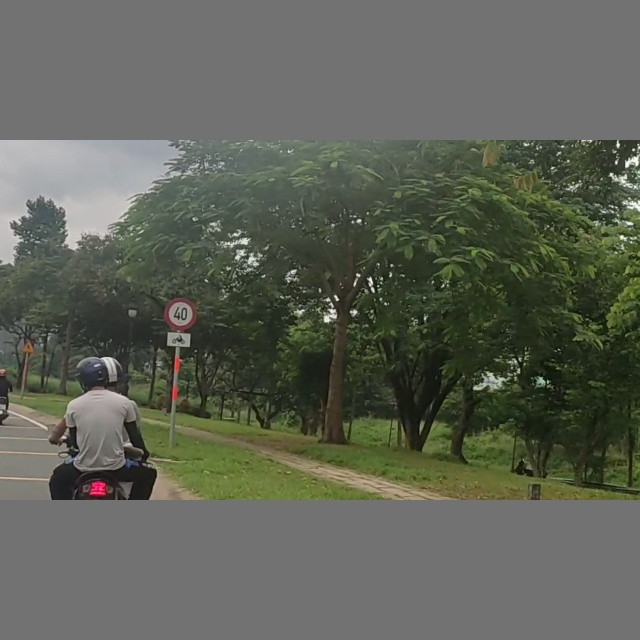P.127*40: (165, 297, 197, 330)
W.224: (21, 340, 37, 354)
